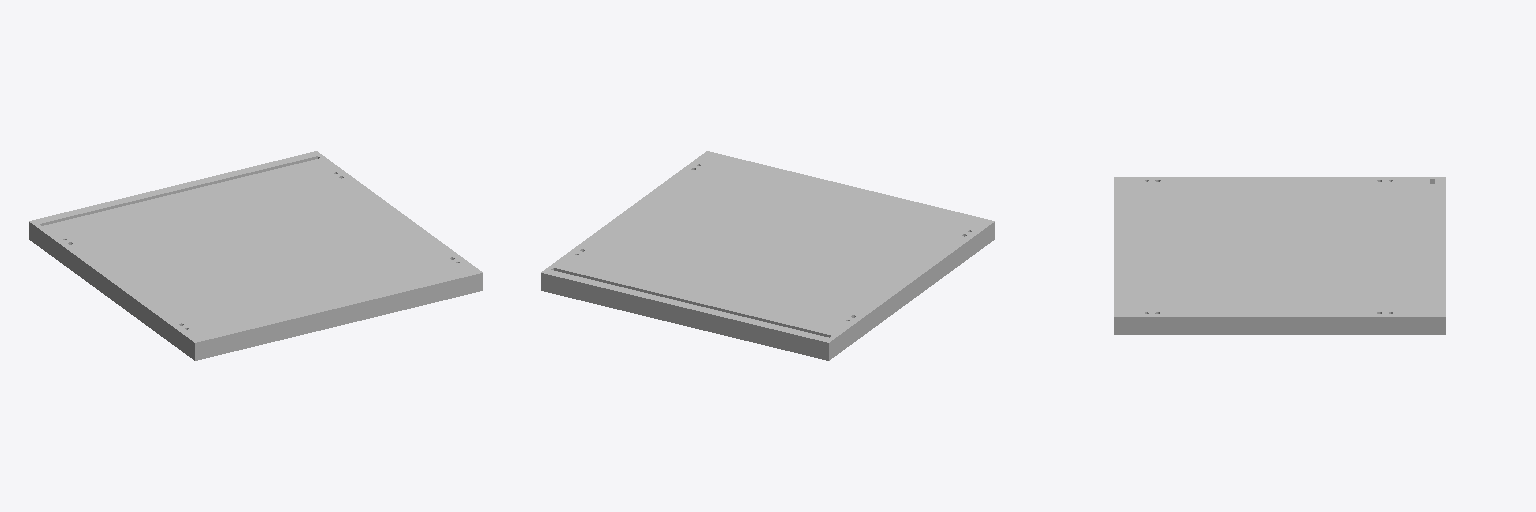
The model's file is top.obj.
3 renders of one model, left to right at view 1: azimuth 30°, elevation 25°; view 2: azimuth 150°, elevation 25°; view 3: azimuth 270°, elevation 25°, orthographic.
Visible parts, largest first — view 1: 1; view 2: 1; view 3: 1.
Boxes of the visible parts, x1=… form: 1: x1=29, y1=151, x2=482, y2=360; 1: x1=541, y1=151, x2=994, y2=360; 1: x1=1114, y1=177, x2=1445, y2=334.
Size of the model in its own units: 300 by 18 by 300.